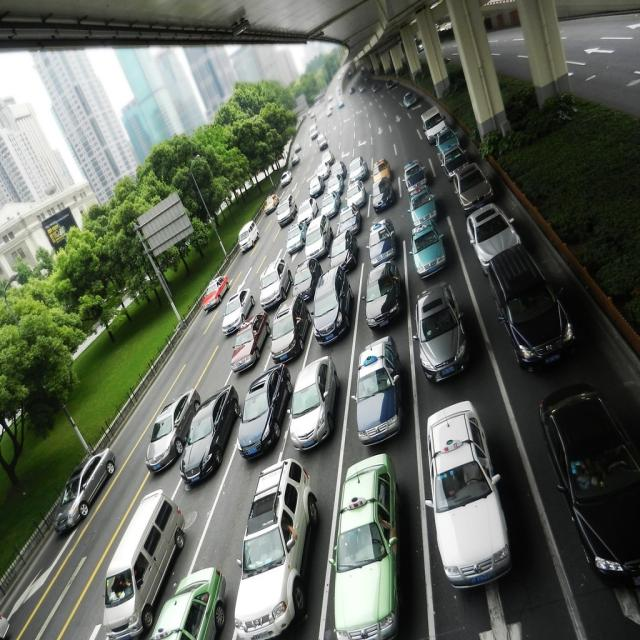Carro Branco: (421, 404, 512, 594), (236, 462, 320, 640)
Carro Cinza: (410, 291, 476, 390)
Carro Prata: (291, 358, 344, 456), (460, 210, 526, 262)
Carro Preto: (522, 392, 640, 584), (488, 247, 576, 375), (186, 398, 233, 485), (244, 375, 286, 458), (362, 272, 403, 332), (315, 280, 348, 343)
Carro Verde: (334, 462, 405, 640), (153, 564, 230, 640)
Van Prata: (105, 491, 185, 634)
